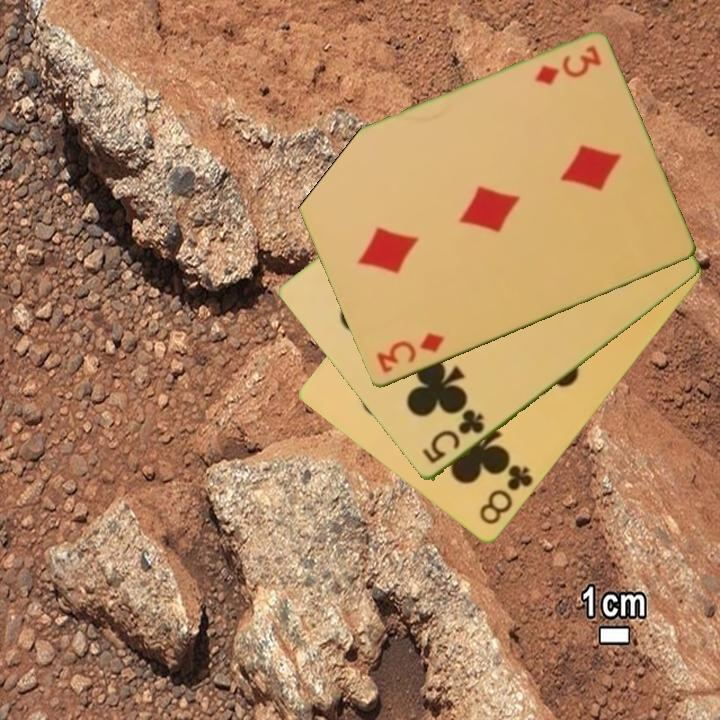3d: (372, 329, 447, 377), (530, 42, 604, 89)
5c: (418, 406, 488, 468)
8c: (475, 461, 537, 529)
